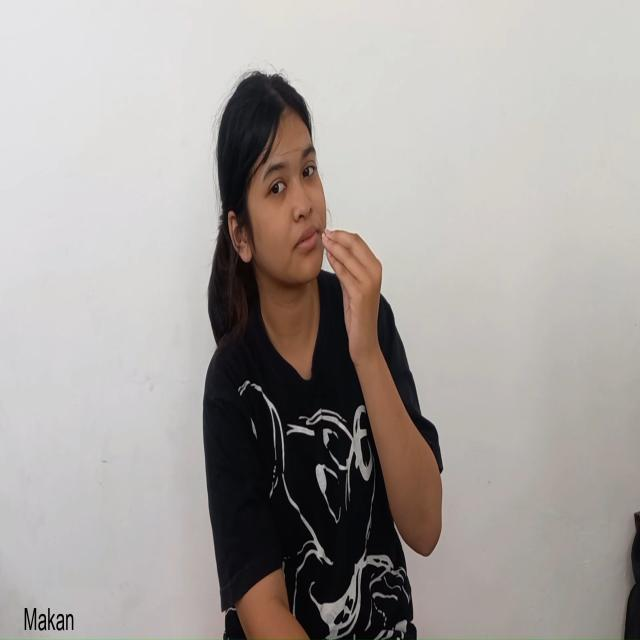Makan -BISINDO-: (210, 60, 389, 403)
